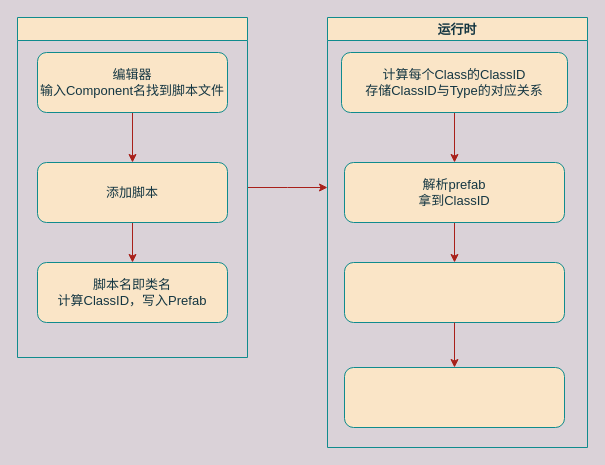
The diagram is 605 pixels wide and 465 high, and some of its shapes have lost their labels. Here are the shapes that lost their labels. From the top down, the centre of each, then its label:
the point at 132,187: 编辑器
the point at 454,292: 通过ClassID获取对应Type
the point at 454,397: 实例化Type
